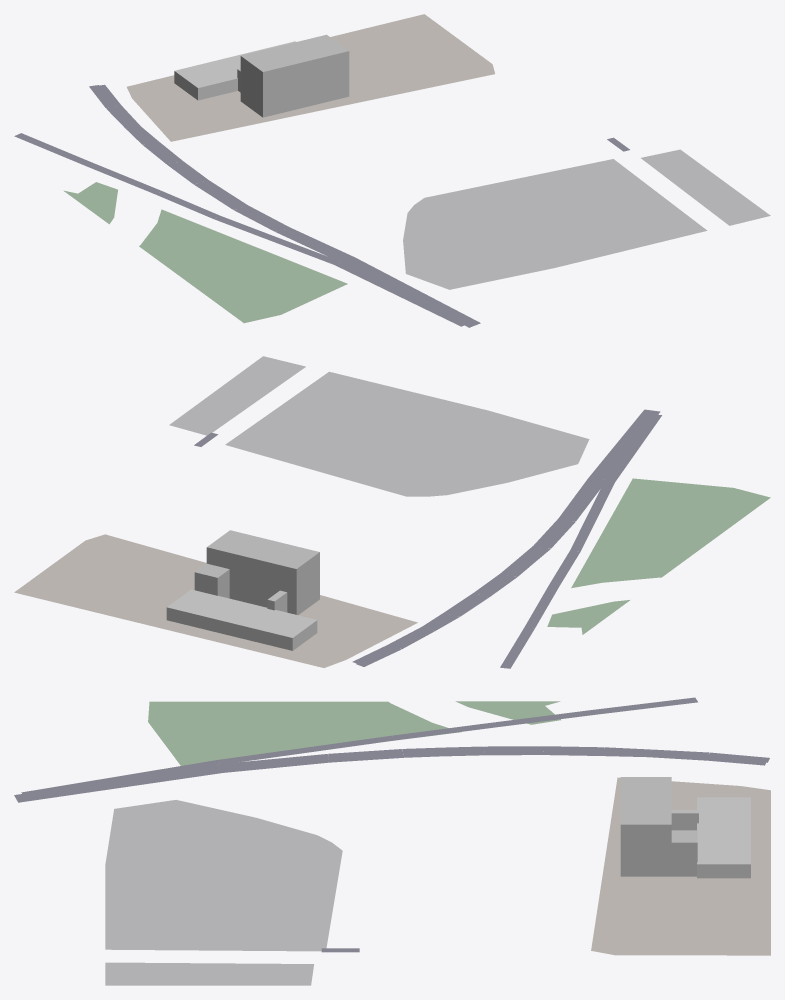
Rendered from 143_107_mid.glb.
3 renders of one model, top to bottom at view 1: azimuth 30°, elevation 25°; view 2: azimuth 150°, elevation 25°; view 3: azimuth 270°, elevation 25°, orthographic. The views are drawn at different scales.
Bounding box in the file's own units: 500 × 43.6 × 569.
